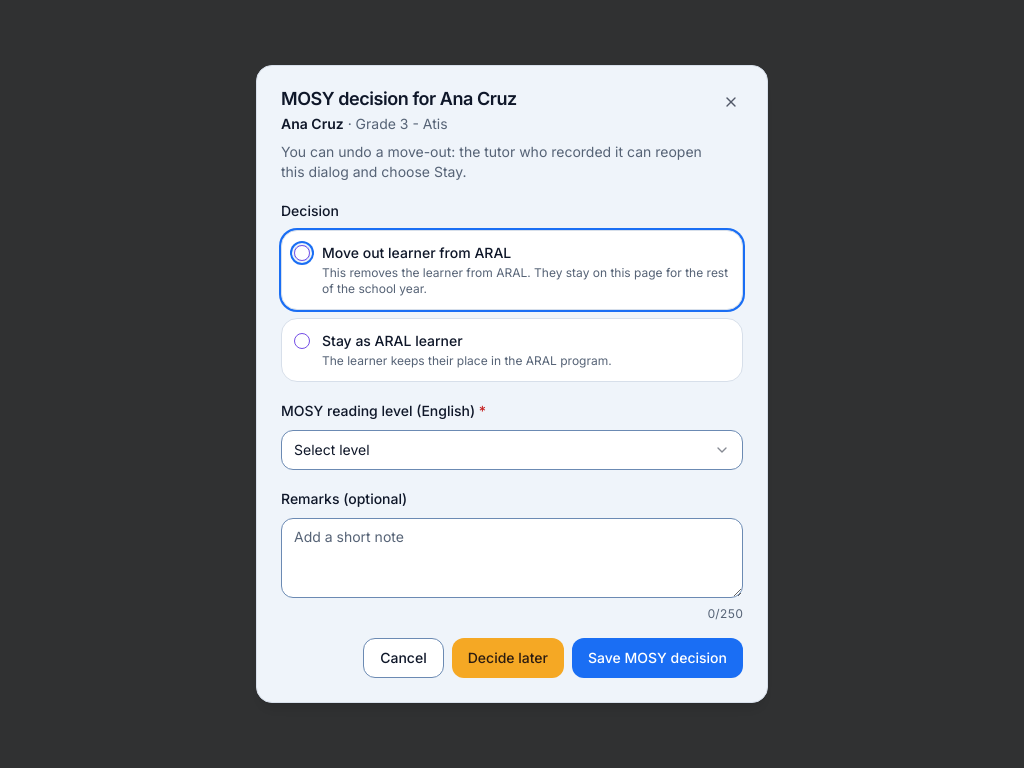
Test: MosyDecisionDialog › submit button follows the choice
This screenshot has width=1024, height=768.
Expected: the button "Save MOSY decision" is shown, [572,638,743,678]
Click the radio button named "Move out learner from ARAL" next to "Move out learner from ARAL": (302, 253) [294,245,310,261]
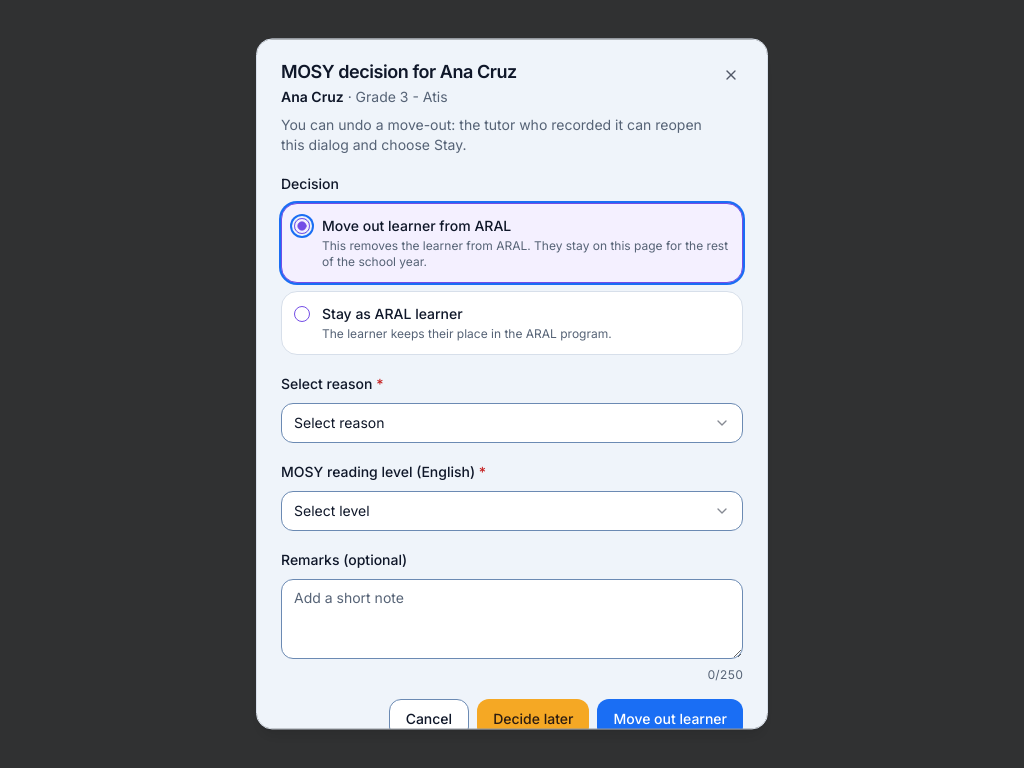
Result: the button "Move out learner" is shown at [597,699,743,730]
Click the radio button named "Stay as ARAL learner" next to "Stay as ARAL learner": (302, 314) [294,306,310,322]
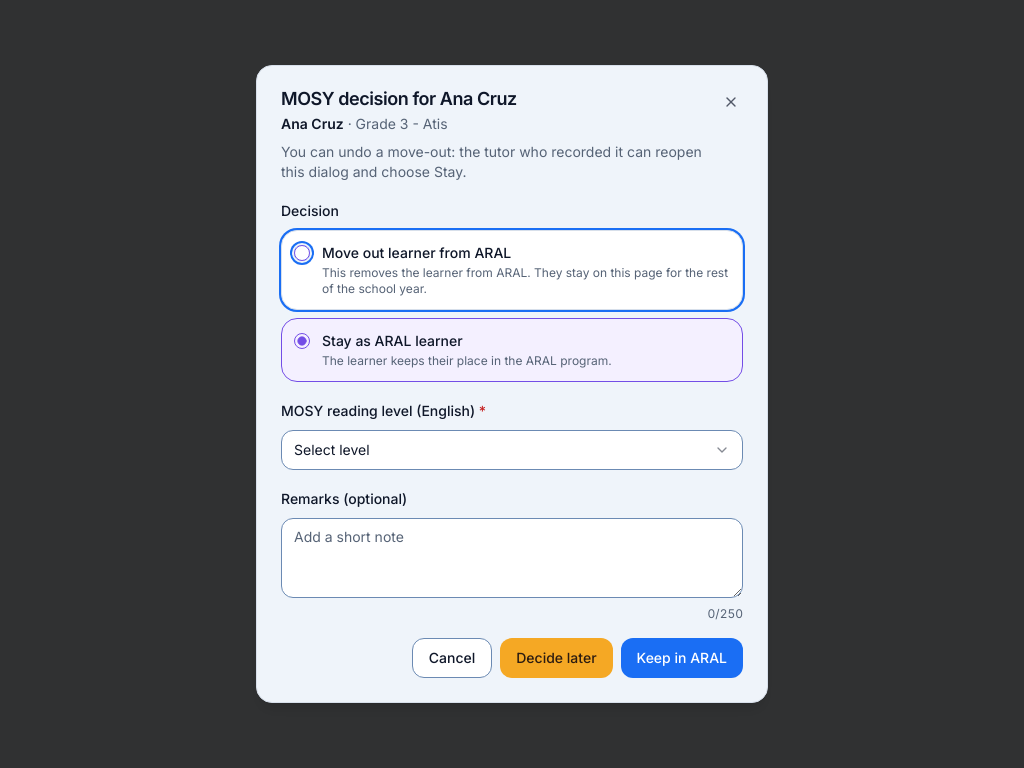
Result: the button "Keep in ARAL" is shown at [621,638,743,678]
